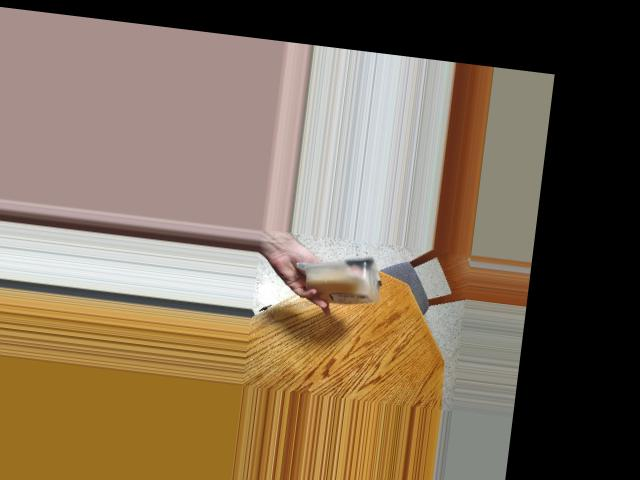cheese: (306, 256, 378, 307)
